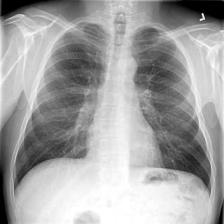normal: (7, 18, 218, 208)
